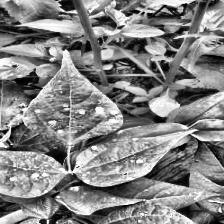Bean Rust: (20, 49, 126, 143), (69, 130, 193, 186), (0, 148, 76, 197), (96, 202, 223, 224), (56, 186, 144, 214)
